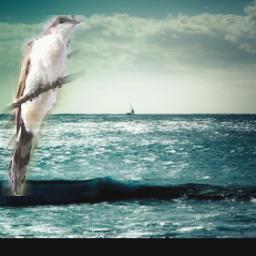Cuckoo: (3, 16, 86, 197)
